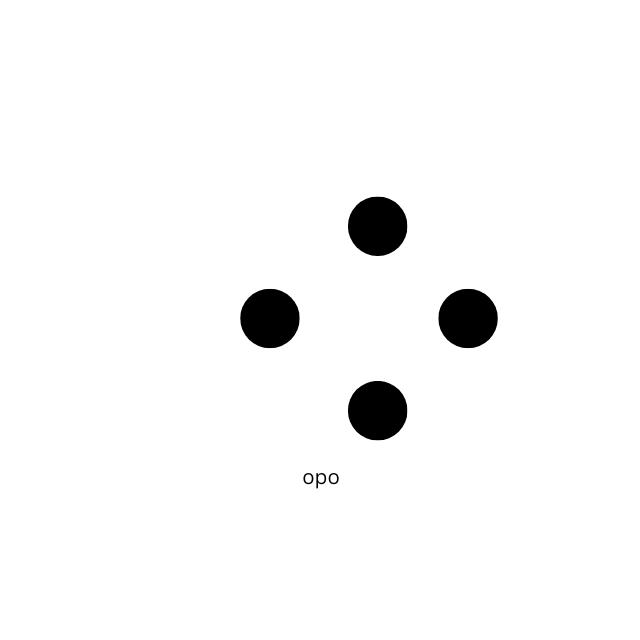dot_5: (146, 196, 301, 443)
two_cell_alphabet_opo: (346, 196, 500, 442)
